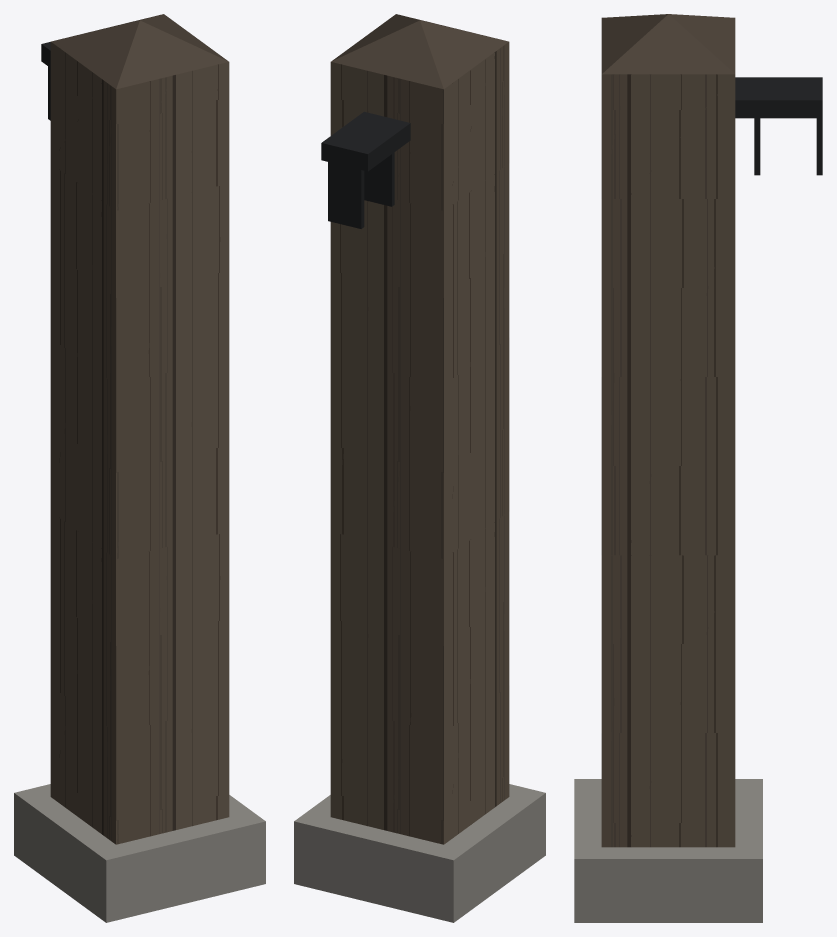
Rendered from MinidoracatKnoxPass_slidepost1_D.glb.
3 views of the same model, side by side, from view 1: azimuth 30°, elevation 25°; view 2: azimuth 150°, elevation 25°; view 3: azimuth 270°, elevation 25° (orthographic). The views are drawn at different scales.
Visible parts, largest first — view 1: MinidoracatKnoxPass_slidepost1_D; view 2: MinidoracatKnoxPass_slidepost1_D; view 3: MinidoracatKnoxPass_slidepost1_D.
Boxes of the visible parts, box(x1,y1,x2,y2) form: MinidoracatKnoxPass_slidepost1_D: box(14, 14, 265, 922); MinidoracatKnoxPass_slidepost1_D: box(294, 14, 545, 922); MinidoracatKnoxPass_slidepost1_D: box(574, 14, 822, 922).
Size of the model in its own units: 0.48 by 2.44 by 0.632.
1 material, 1 textured.
